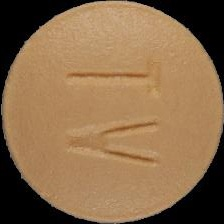63187-289: (0, 0, 224, 224)
